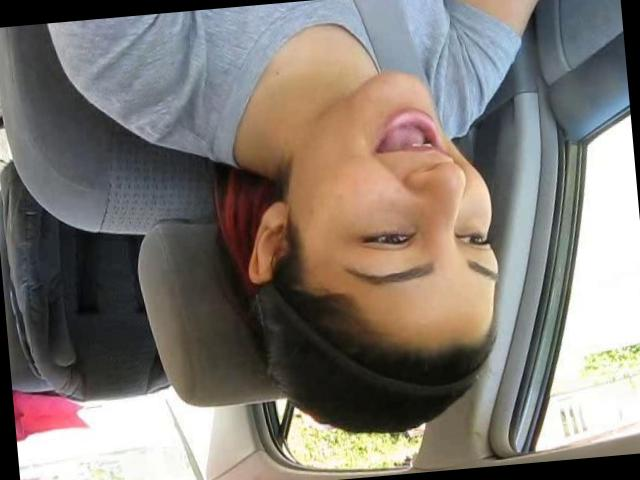eye_open: (356, 222, 419, 255), (456, 222, 494, 254)
face: (288, 58, 511, 319)
mouth_open: (363, 103, 457, 171)
